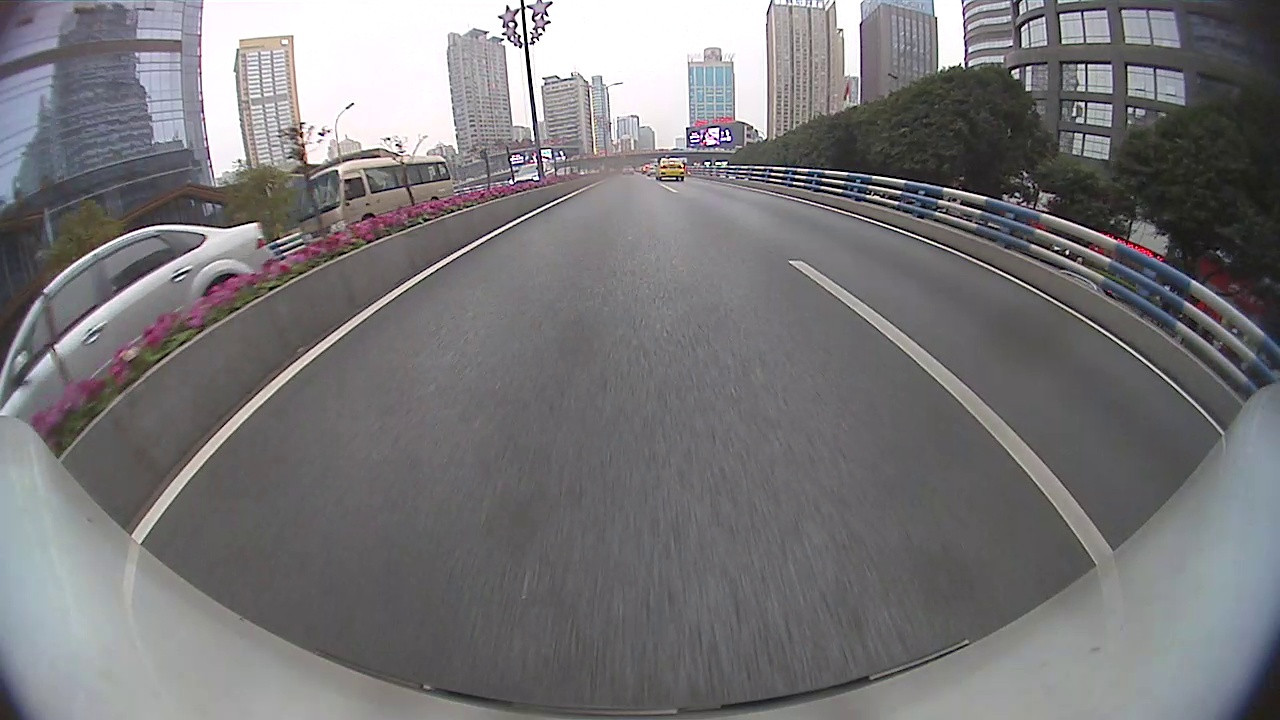bus: (296, 153, 457, 249)
car: (1, 219, 277, 427), (507, 160, 557, 187), (654, 154, 686, 182)
